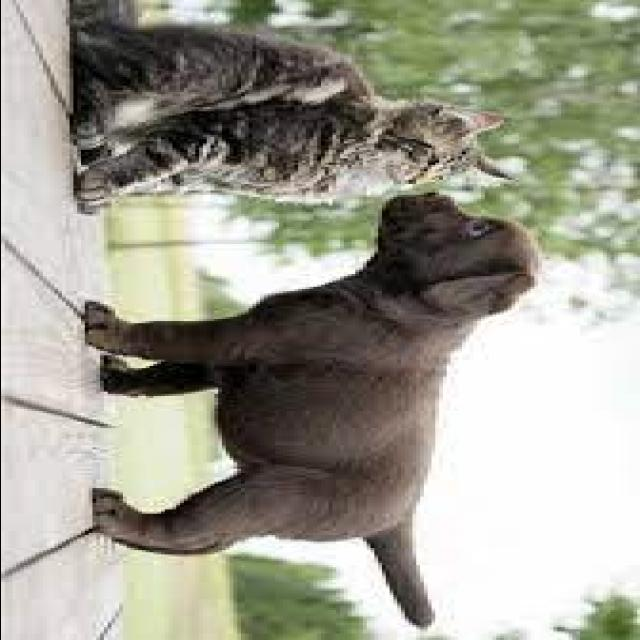cat: (46, 2, 516, 220)
dog: (72, 192, 558, 636)
